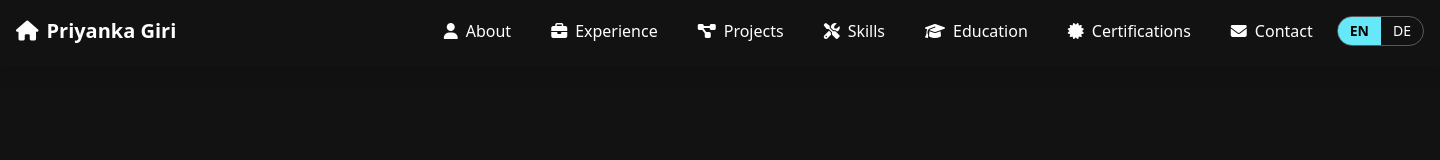
Test case: HeaderComponent › language switch › switches the whole menu to German and back
Click the button "DE".
click(1402, 31)  # box [1381,17,1423,45]
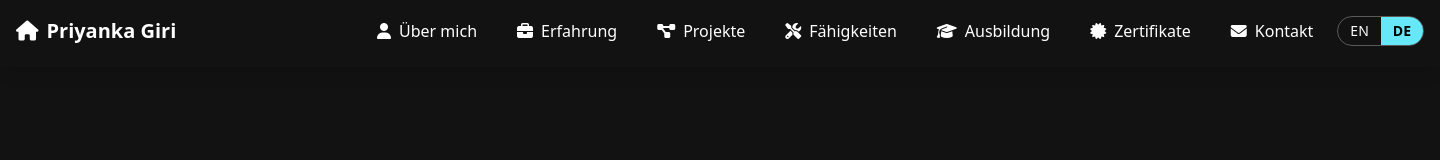
Expected: the text "Über mich" is shown, [377,20,477,42]
Expected: the text "Fähigkeiten" is shown, [785,20,897,42]
Click the button "EN".
click(1360, 31)  # box [1338,17,1381,45]
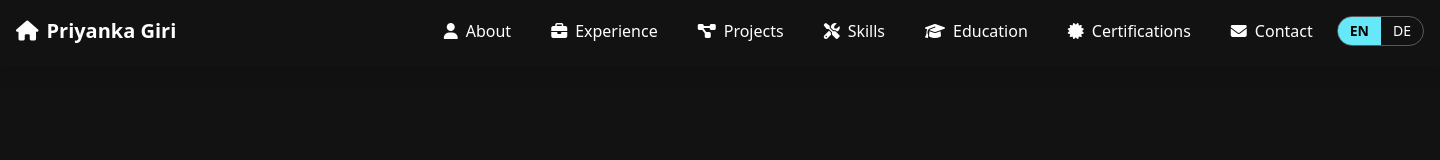
Expected: the text "About" is shown, [444,20,511,42]
